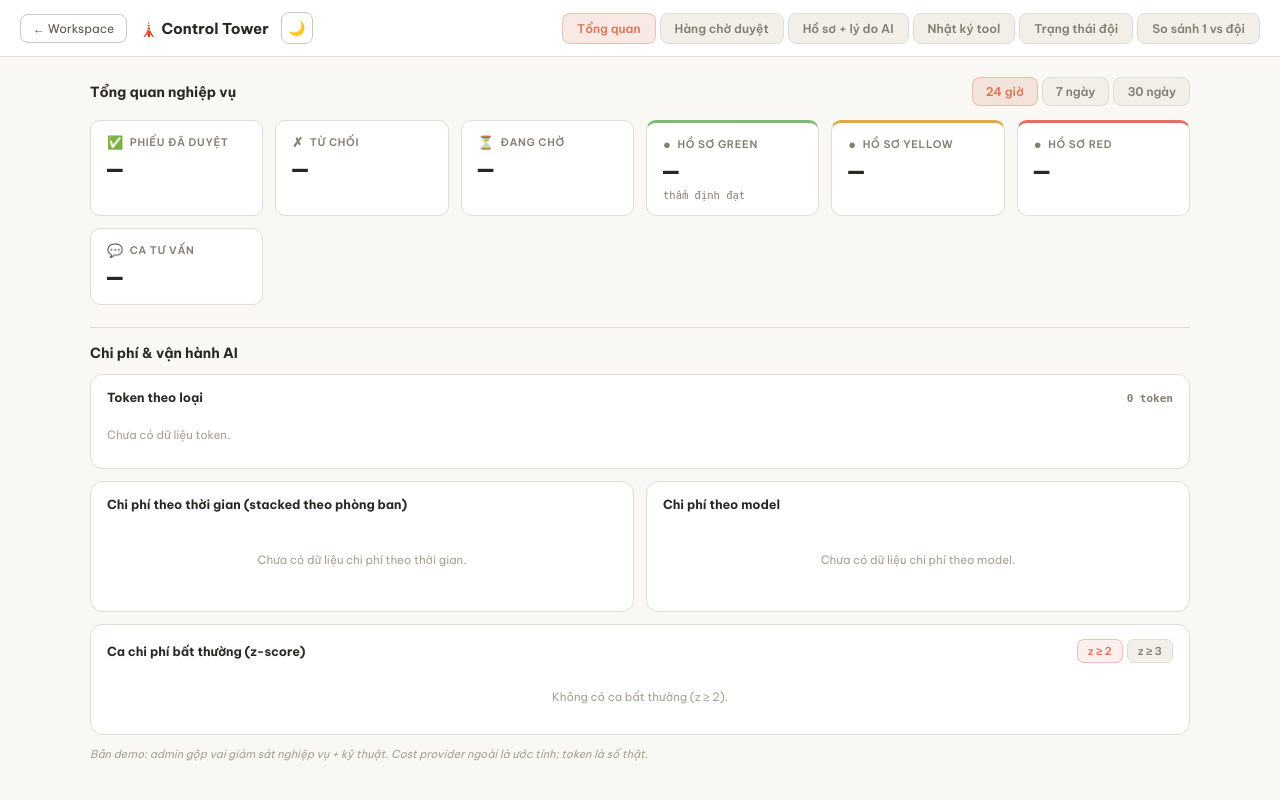
Test case: ControlTower › tab So sánh: chạy compare → 2 cột single + multi + metrics
Click the button "So sánh 1 vs đội": (1199, 28) [1137, 12, 1260, 44]
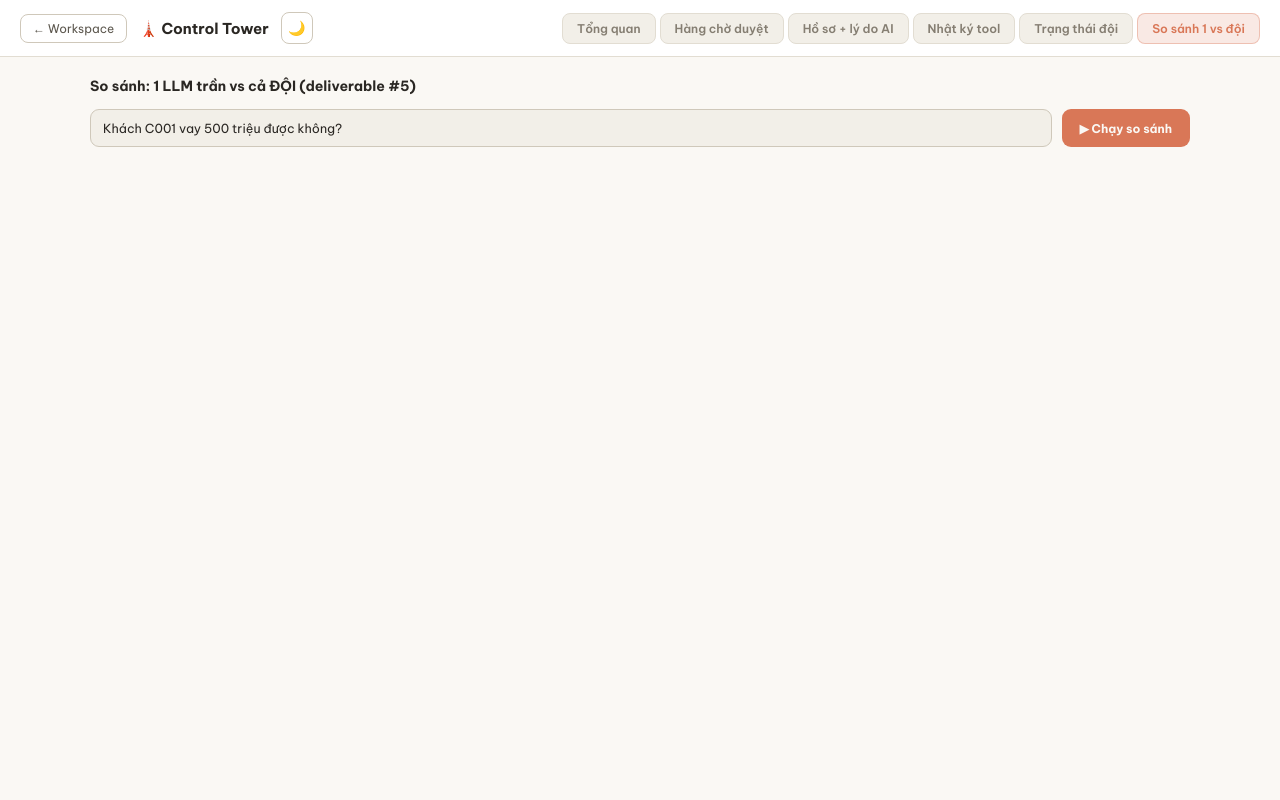
Click the button with test id "compare-run": (1126, 128) [1062, 109, 1190, 147]
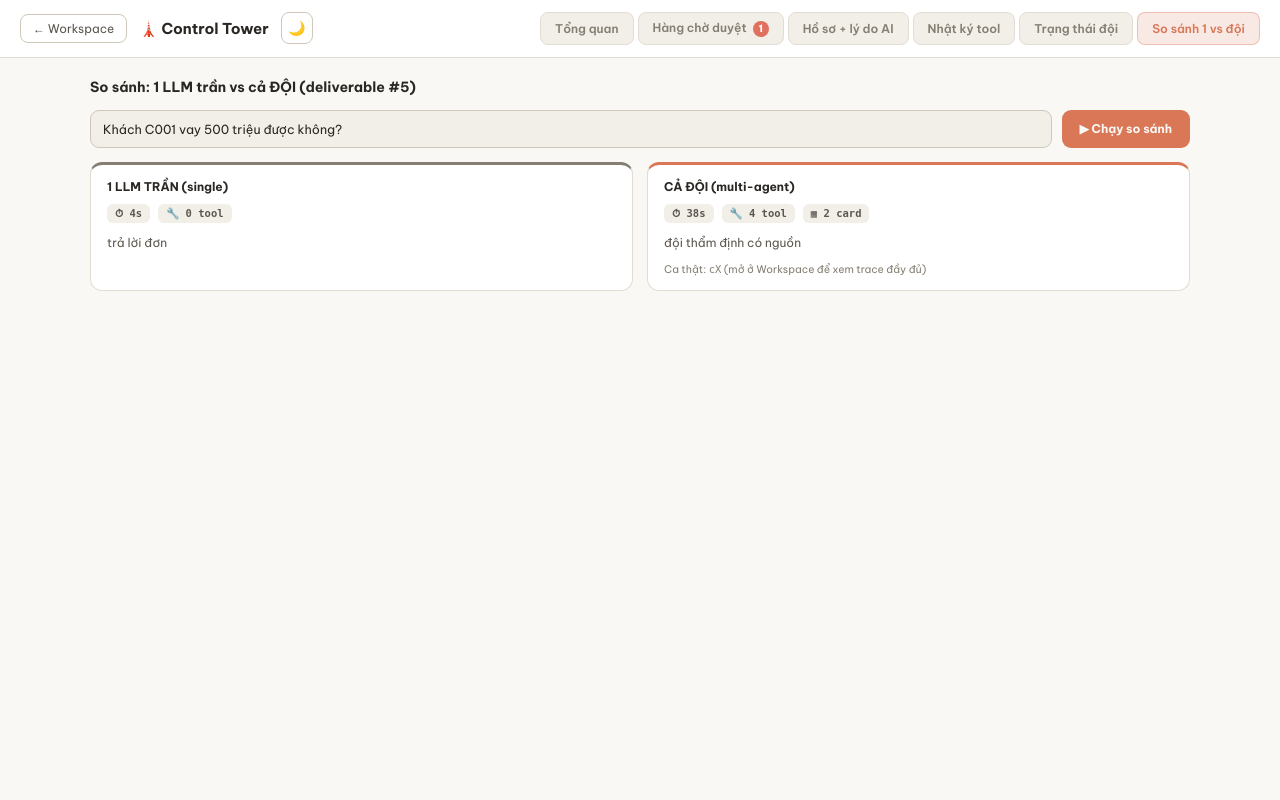
Expected: the text "trả lời đơn" is shown, [107, 235, 167, 250]
Expected: the text "đội thẩm định có nguồn" is shown, [664, 235, 801, 250]
Expected: the text "🔧 4 tool" is shown, [722, 204, 795, 223]
